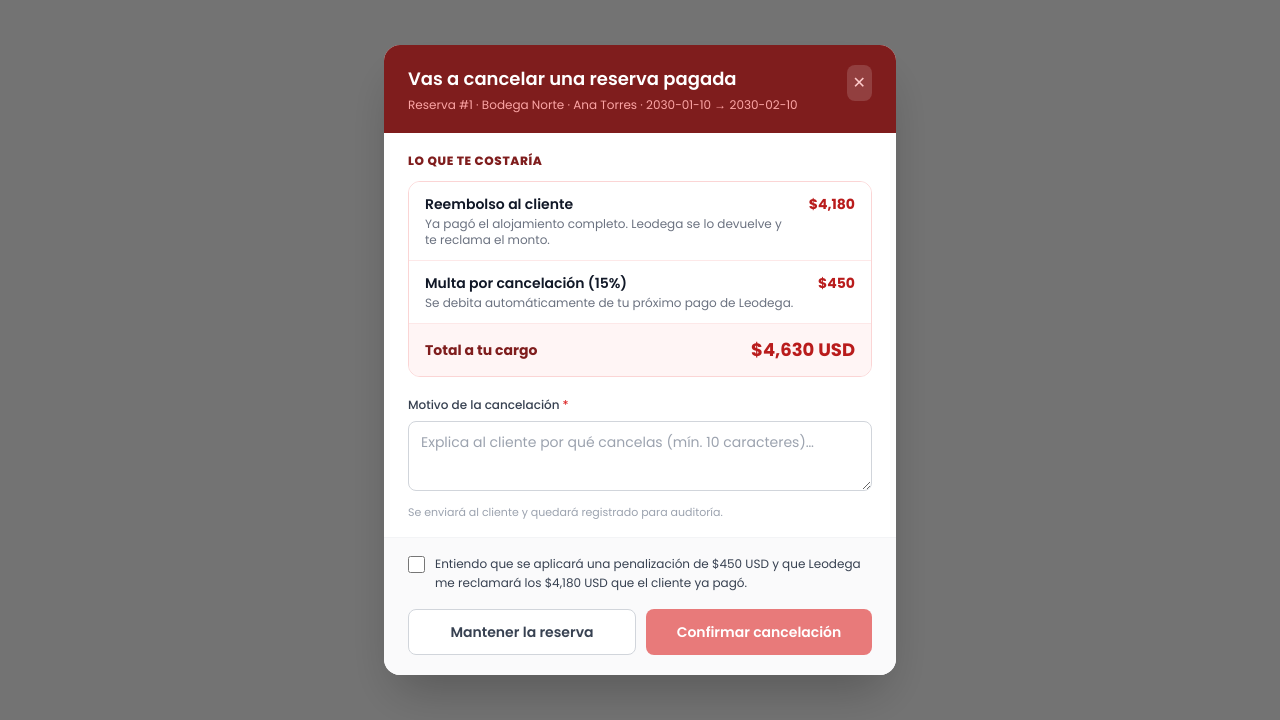
Scenario: CancelarReservaModal › highlights the reason field and does not submit when the reason is under 10 characters
expect the text "$4,180" is shown: met, box [809,194,855,214]
Type "corto" into the text box with placeholder "Explica al cliente por qué cancelas (mín. 10 caracteres)…" at (640, 456), box [408,421,872,491]
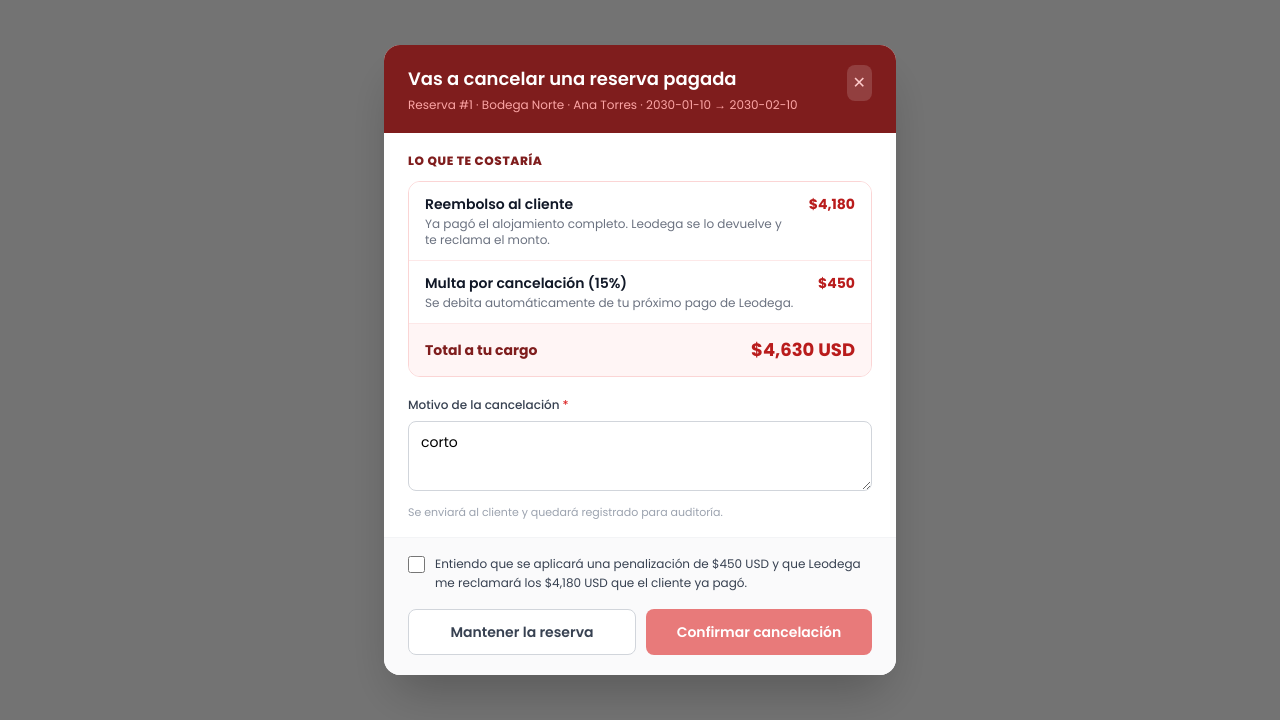
Click the checkbox at (416, 564), box [408,556,425,573]
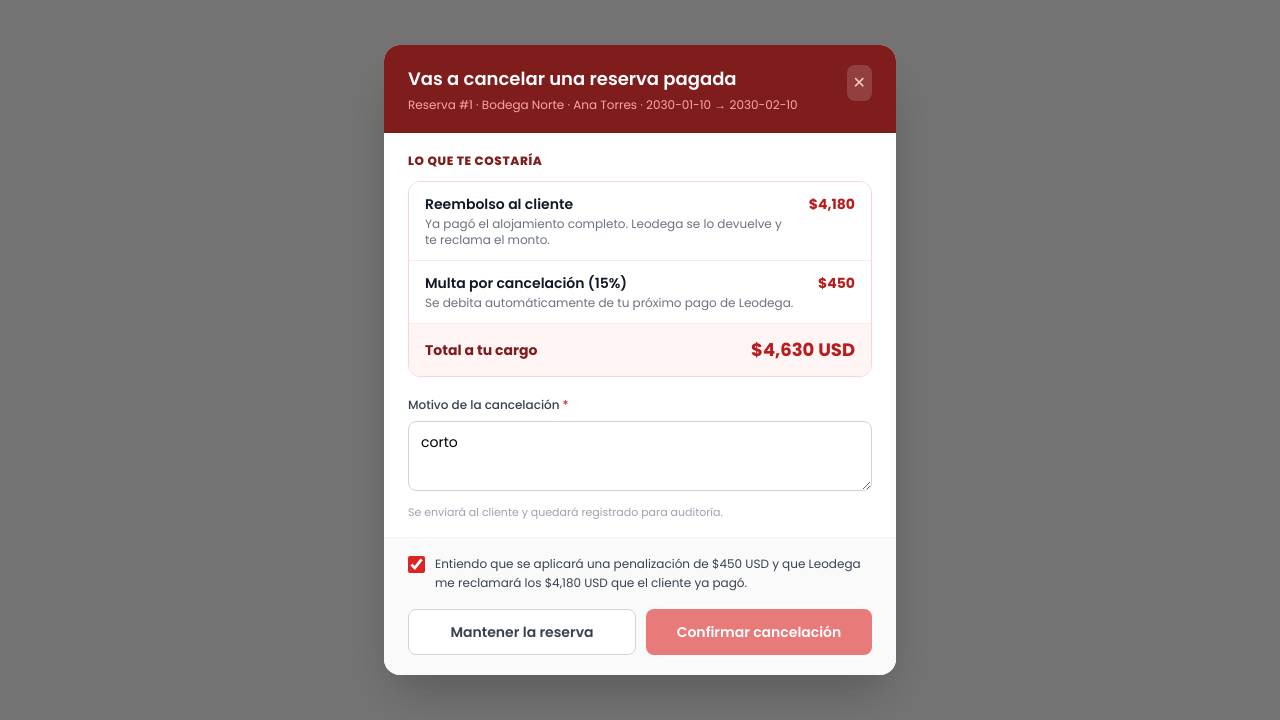
Click the button "Confirmar cancelación" at (759, 632), box [646,609,872,655]
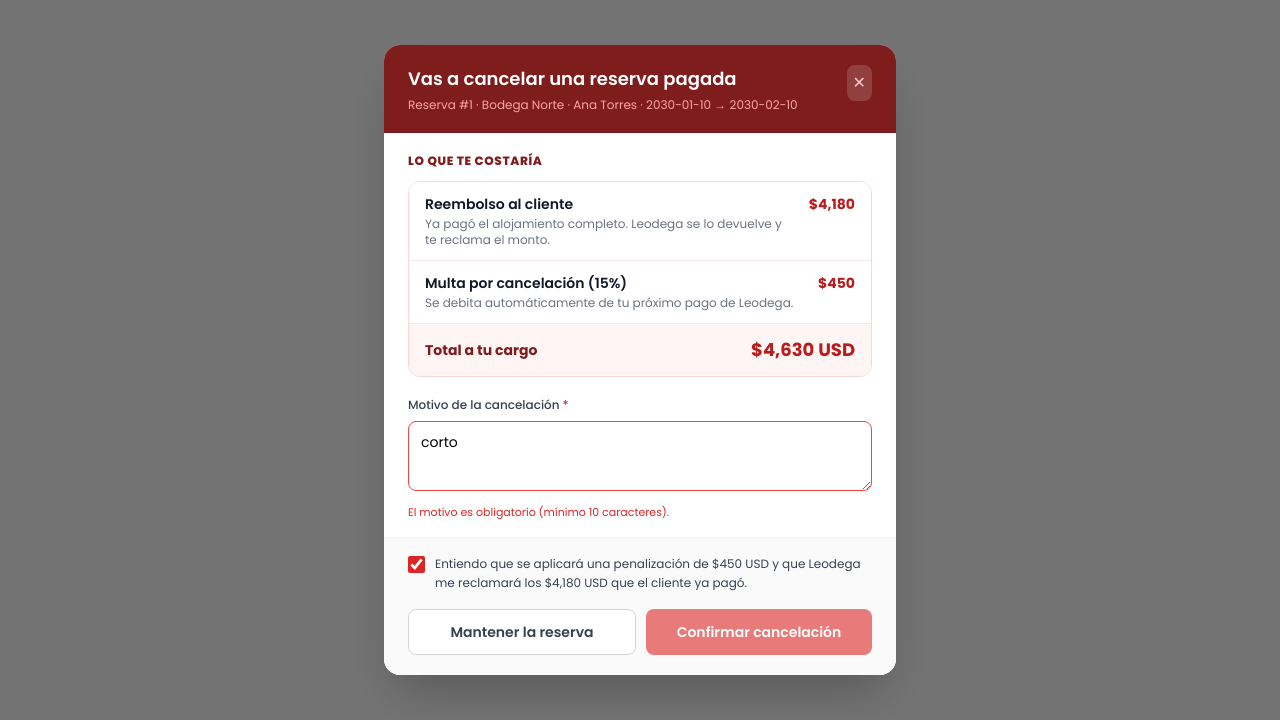
expect the text "El motivo es obligatorio (mínimo 10 caracteres)." is shown: met, box [408,504,669,520]
